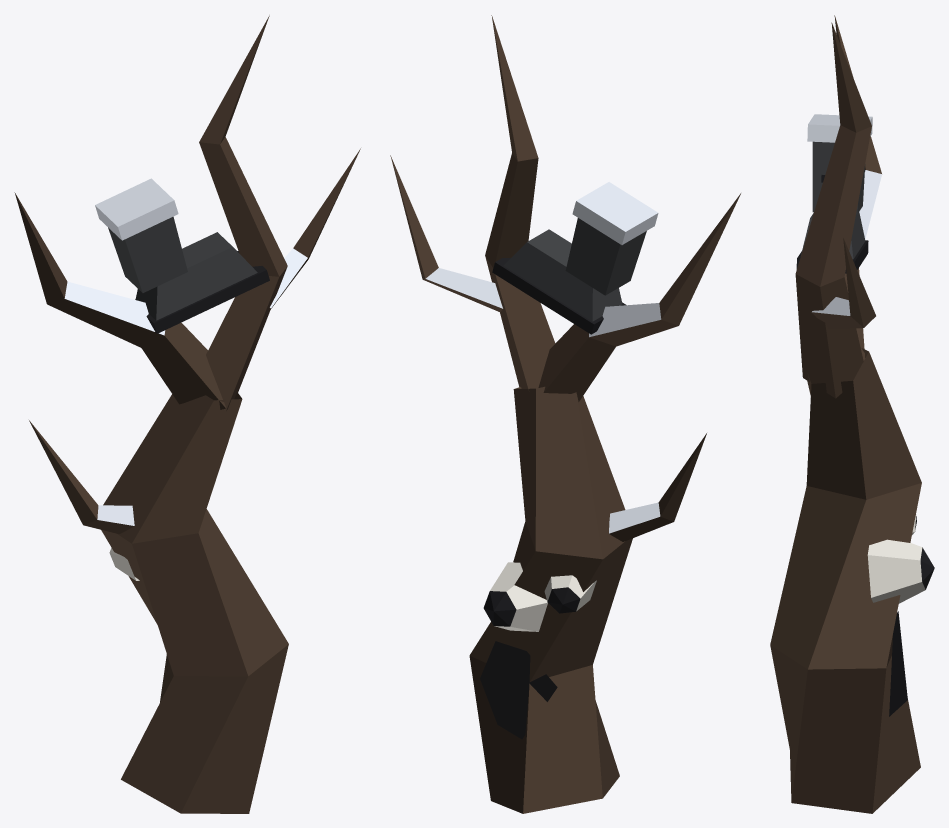
Rendered from tree_b.glb.
3 views of the same model, side by side, from view 1: azimuth 30°, elevation 25°; view 2: azimuth 150°, elevation 25°; view 3: azimuth 270°, elevation 25° (orthographic). The views are drawn at different scales.
Visible parts, largest first — view 1: Scenery; view 2: Scenery; view 3: Scenery.
Boxes of the visible parts, x1,y1,x2,y2 form: Scenery: (14,15,360,813); Scenery: (390,15,740,813); Scenery: (770,15,934,813).
Bounding box in the file's own units: 2.9 × 6.12 × 1.14.
